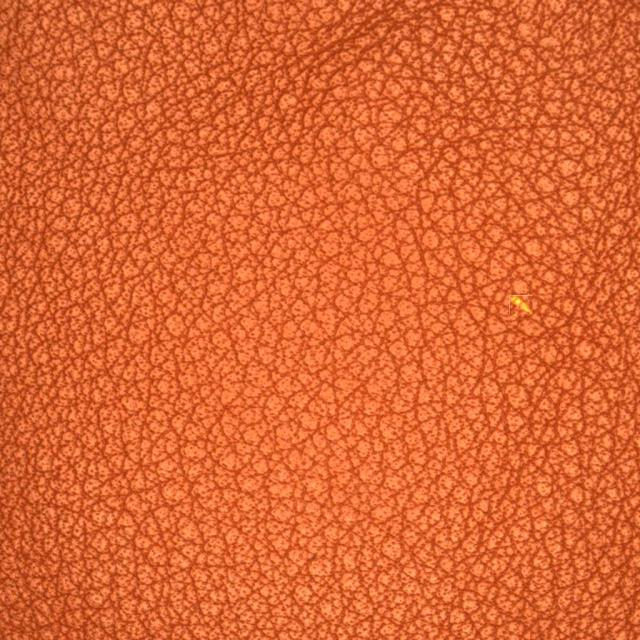Scratch: (414, 216, 614, 394)
